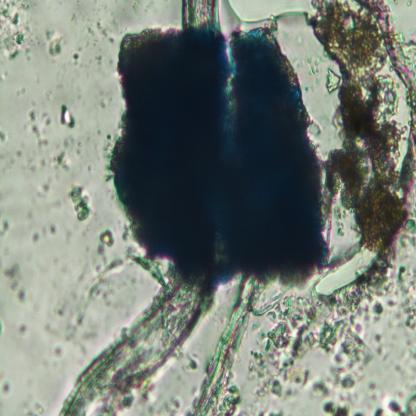Background material: (312, 0, 409, 260), (297, 286, 376, 395), (248, 292, 322, 395), (402, 43, 416, 240), (0, 0, 41, 63), (387, 260, 416, 330), (373, 233, 396, 320), (126, 250, 164, 288), (69, 184, 96, 226), (4, 261, 28, 308), (29, 109, 55, 150), (374, 392, 416, 415), (140, 394, 186, 414), (320, 397, 364, 415), (98, 229, 116, 266), (45, 30, 67, 57), (29, 223, 57, 243), (323, 66, 340, 94), (95, 21, 116, 42), (58, 106, 76, 128), (50, 152, 68, 172), (186, 351, 200, 373), (0, 375, 13, 396), (71, 46, 82, 69)
Cellulose filter fibre: (58, 274, 219, 415), (195, 276, 268, 413), (313, 242, 376, 298), (179, 0, 223, 27)
Microfibre: (109, 27, 331, 287)
